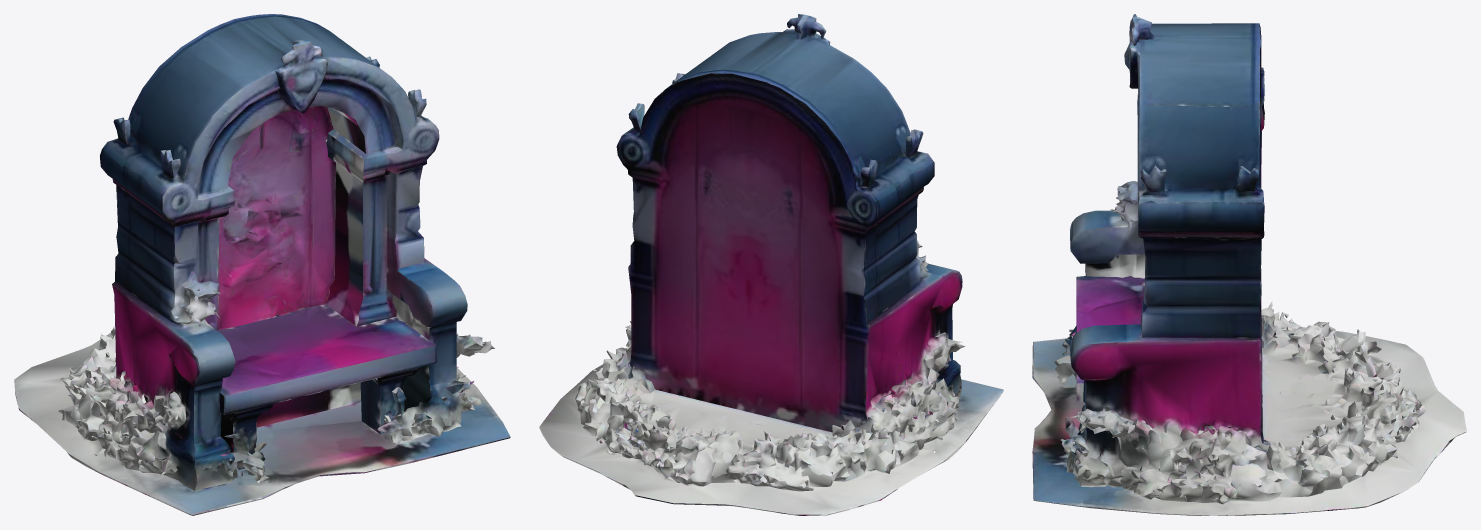
Rendered from bench-growth-generated-2026-05-17T18-58-08-187Z.low.glb.
The picture shows the model from 3 angles, left to right: view 1: azimuth 30°, elevation 25°; view 2: azimuth 150°, elevation 25°; view 3: azimuth 270°, elevation 25°; orthographic projection. The views are drawn at different scales.
Parts seen in each view (by area): view 1: temp_mesh.ply; view 2: temp_mesh.ply; view 3: temp_mesh.ply.
Part boxes in pixels (x1,y1,x2,y2): temp_mesh.ply: [14, 14, 510, 515]; temp_mesh.ply: [539, 14, 1003, 515]; temp_mesh.ply: [1032, 14, 1466, 515].
Size of the model in its own units: 1.97 by 1.97 by 1.91.
Materials: 1 (1 with a texture image).
